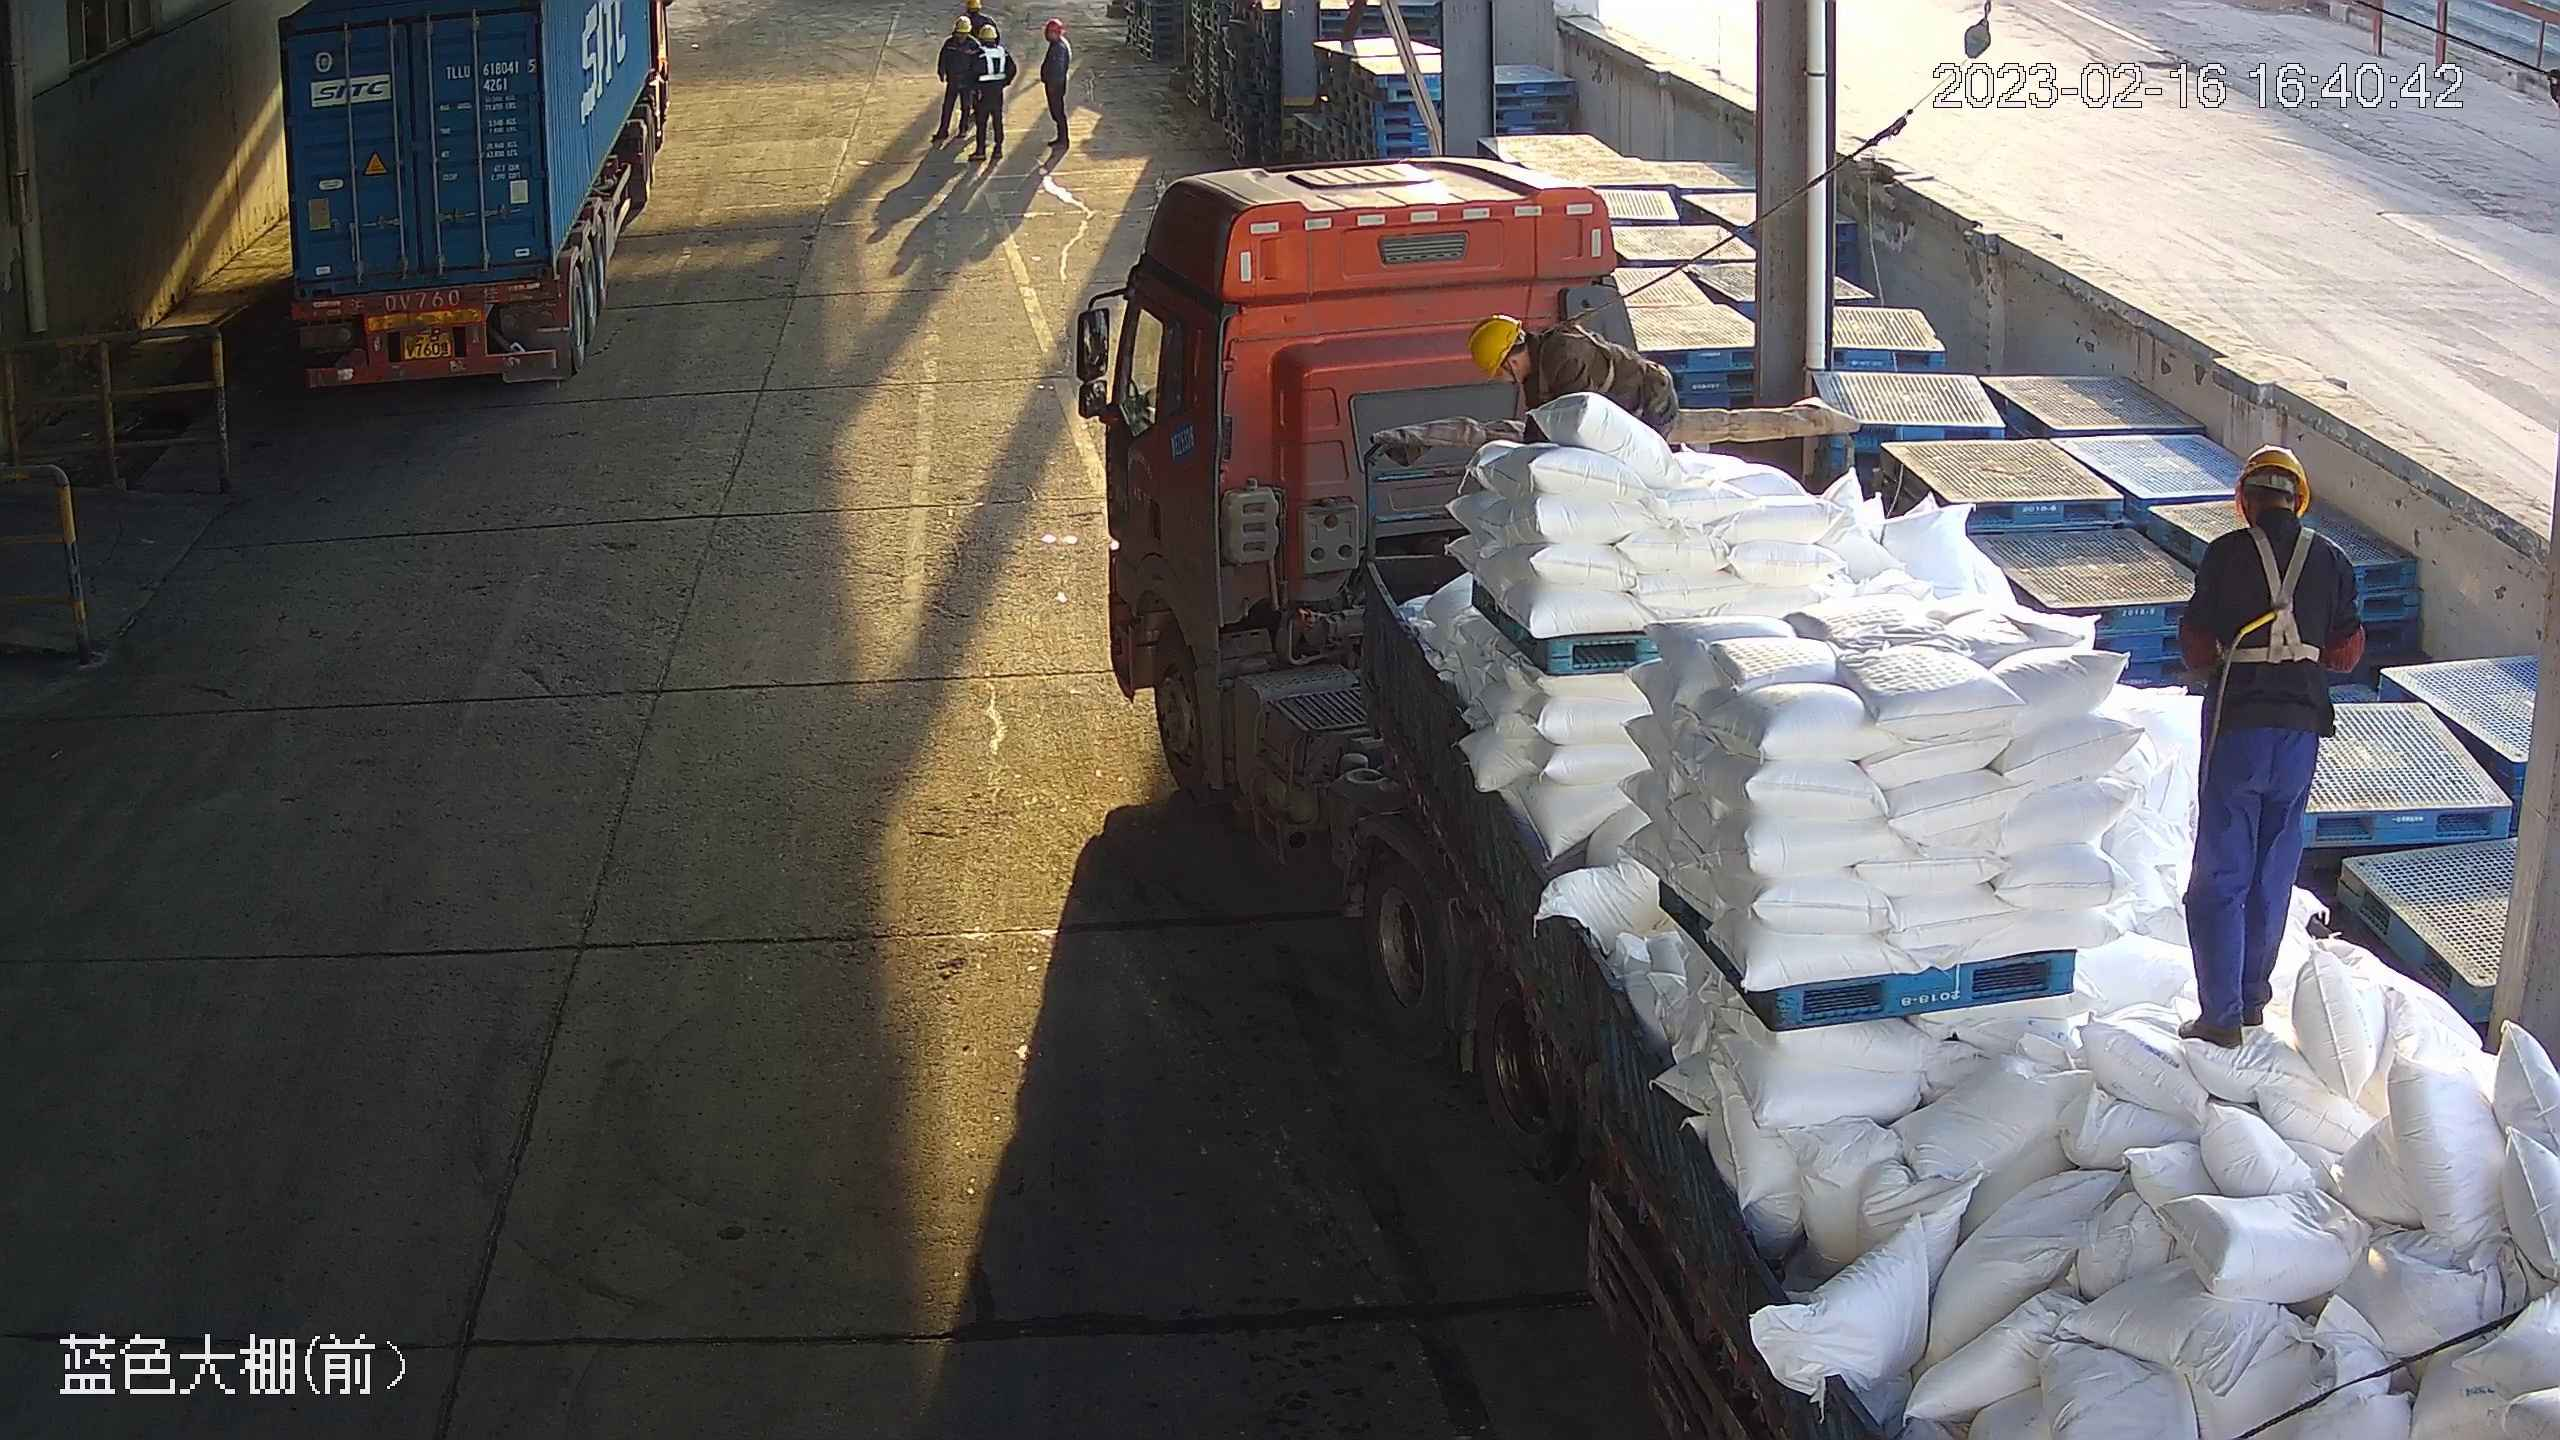belt: (2213, 520, 2334, 667), (1540, 301, 1615, 394)
head: (2184, 439, 2361, 632), (1469, 311, 1600, 415), (930, 12, 979, 68), (971, 26, 1016, 79), (1039, 19, 1072, 69)
helmet: (2237, 447, 2312, 518), (1471, 315, 1524, 387), (953, 14, 972, 34), (978, 25, 998, 40), (1044, 20, 1064, 33), (966, 1, 983, 11)
people: (2179, 442, 2367, 1052), (1467, 313, 1680, 442), (970, 25, 1017, 162), (931, 15, 980, 143), (1039, 19, 1073, 149)
truck: (1076, 154, 2560, 1440)
